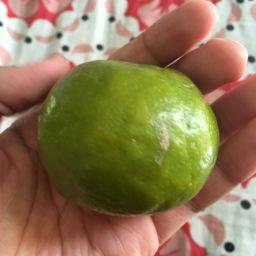Unripe: (40, 59, 222, 215)
